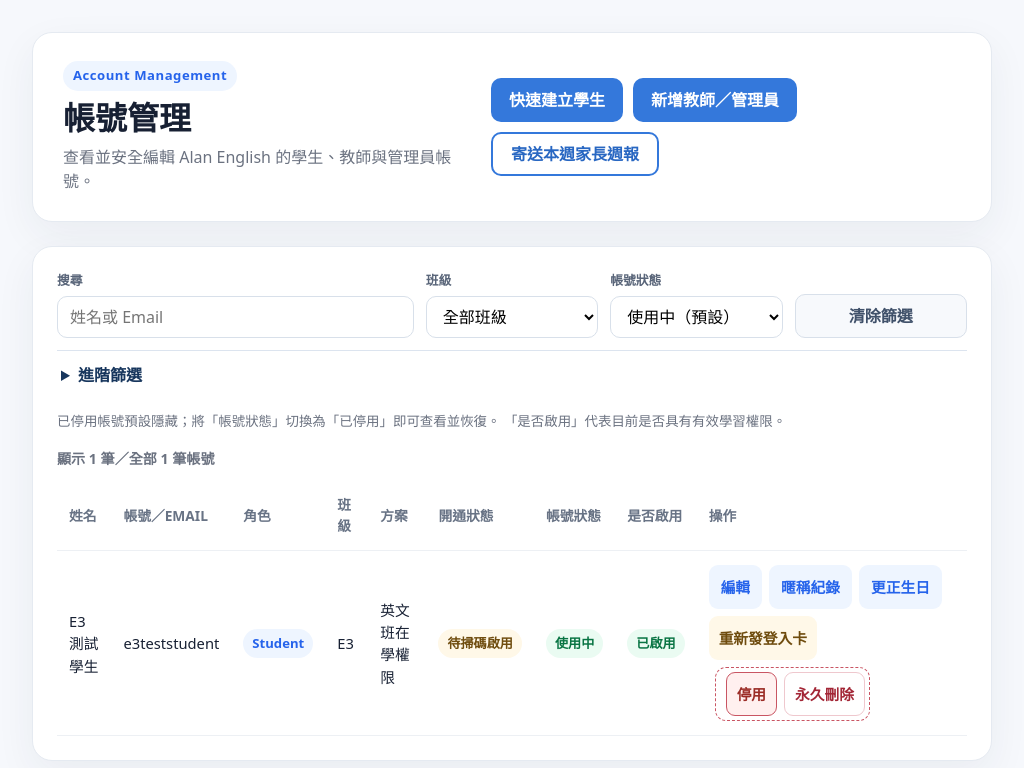
Test: admin can open birthday correction for a student from account management
The width and height of the screenshot is (1024, 768).
Click the button "更正生日".
click(900, 588)  # box [859,566,942,610]
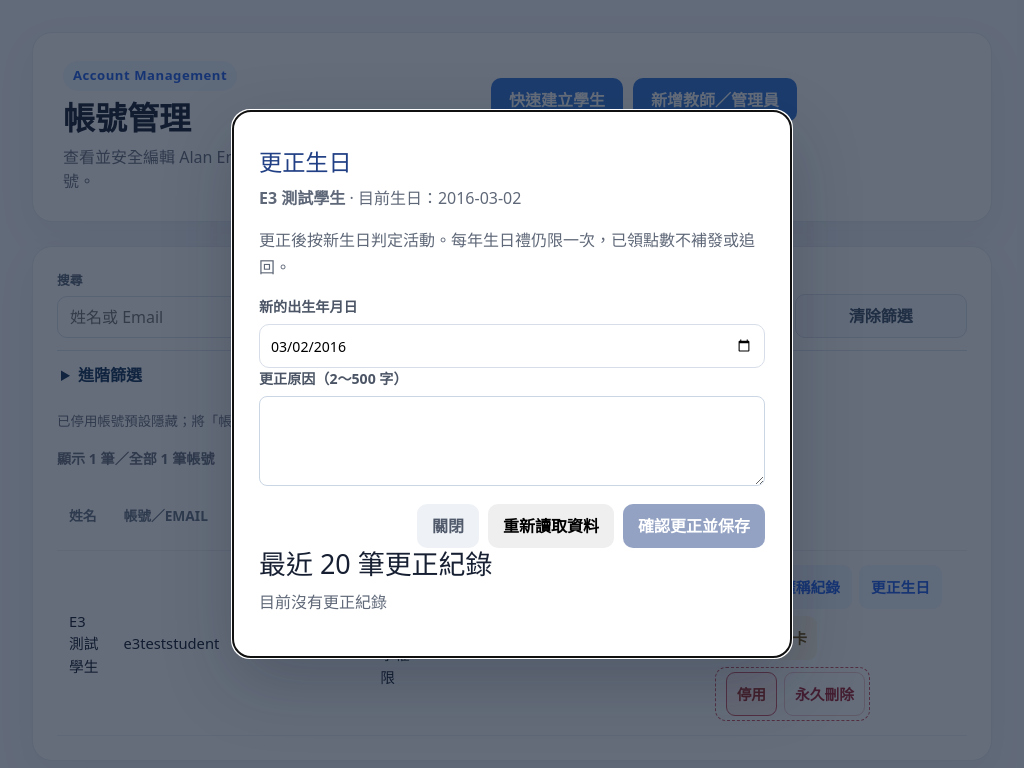
Now the dialog "更正生日" is shown, box [232,110,792,658]
